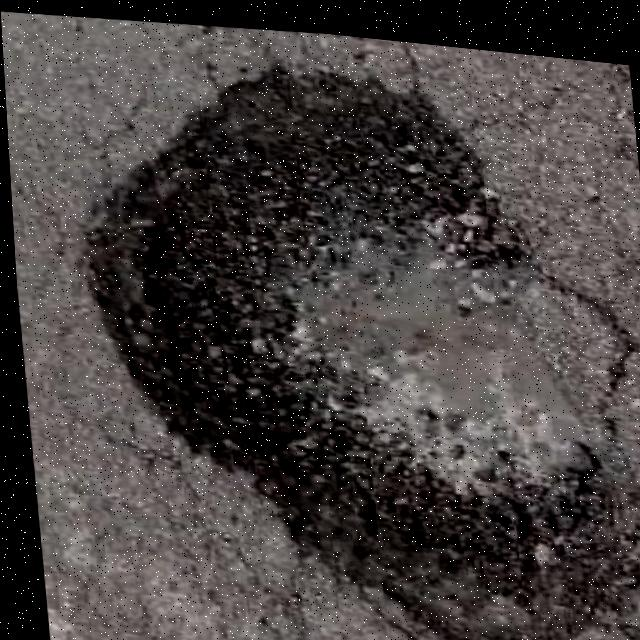Pothole: (45, 22, 640, 640)
